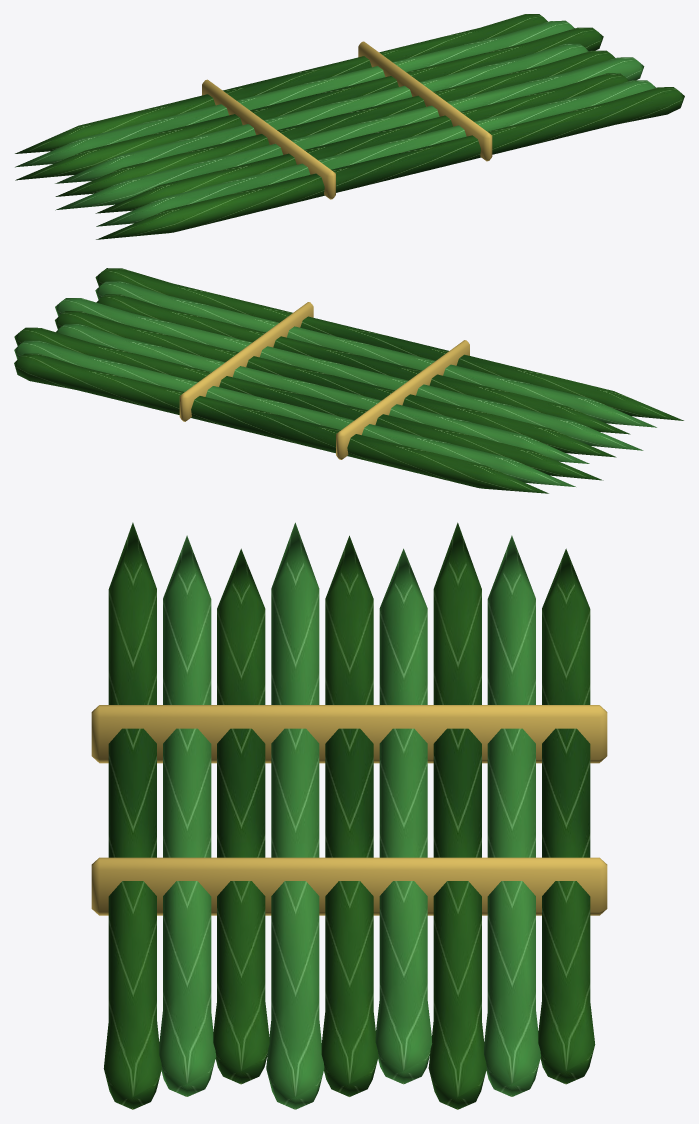
Rendered from veg_asparagus_bundle.glb.
3 views of the same model, one above another, from view 1: azimuth 30°, elevation 25°; view 2: azimuth 150°, elevation 25°; view 3: azimuth 270°, elevation 25° (orthographic). The views are drawn at different scales.
Parts seen in each view (by area): view 1: veg_asparagus_bundle; view 2: veg_asparagus_bundle; view 3: veg_asparagus_bundle.
Boxes of the visible parts, x1,y1,x2,y2 form: veg_asparagus_bundle: [15, 14, 684, 239]; veg_asparagus_bundle: [14, 268, 683, 493]; veg_asparagus_bundle: [91, 522, 607, 1109].
Size of the model in its own units: 0.264 by 0.014 by 0.1.
Materials: 3 (2 with a texture image).
